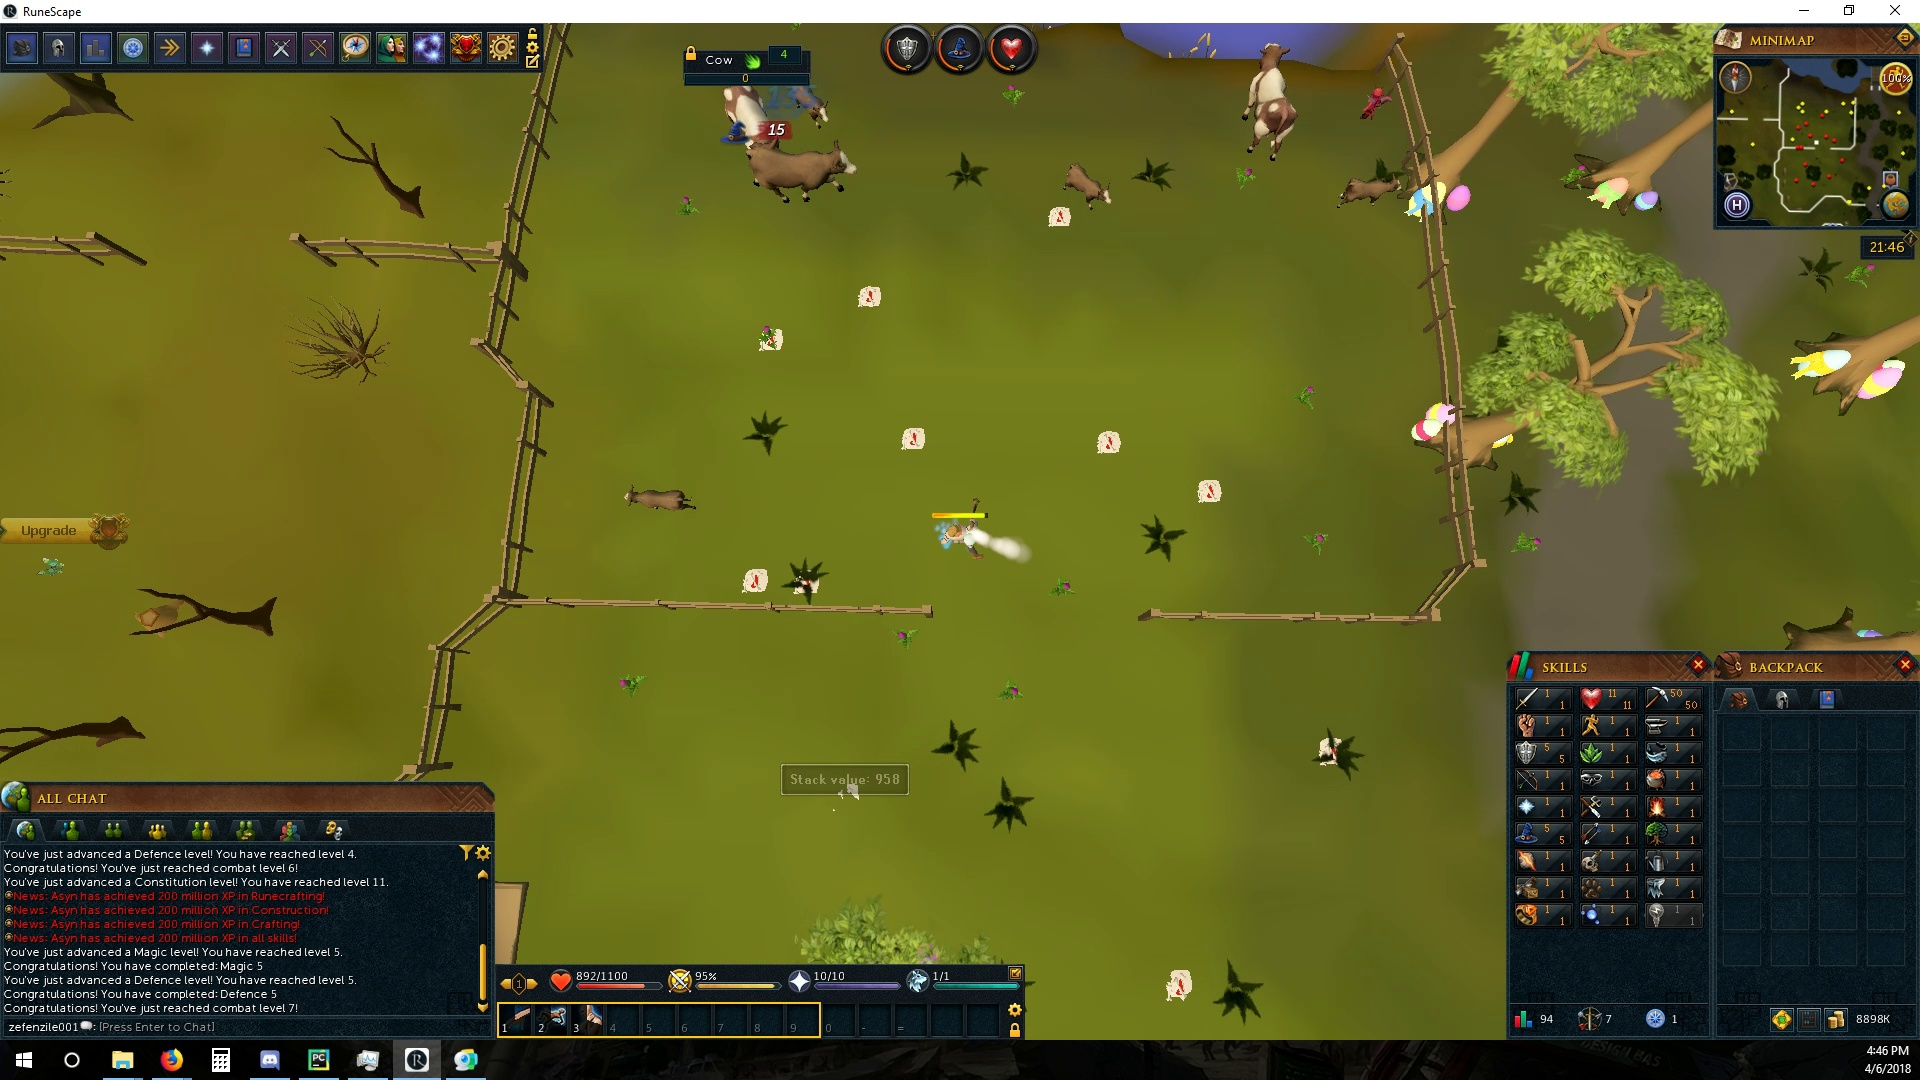calf: (1335, 171, 1414, 210), (1059, 164, 1117, 211), (618, 484, 696, 516), (790, 86, 843, 132)
cow: (1236, 40, 1305, 164), (744, 138, 860, 211), (705, 86, 785, 154)
cow_drop: (1163, 967, 1193, 1002), (1315, 732, 1342, 769), (756, 324, 787, 355), (1193, 473, 1224, 502), (1044, 203, 1071, 236), (895, 426, 927, 452), (738, 568, 770, 593), (1096, 429, 1124, 455), (855, 285, 884, 307)
